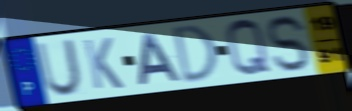A: (137, 31, 184, 87)
D: (171, 23, 221, 87)
K: (81, 36, 126, 91)
Q: (224, 18, 274, 80)
S: (265, 13, 313, 75)
U: (34, 37, 84, 98)
